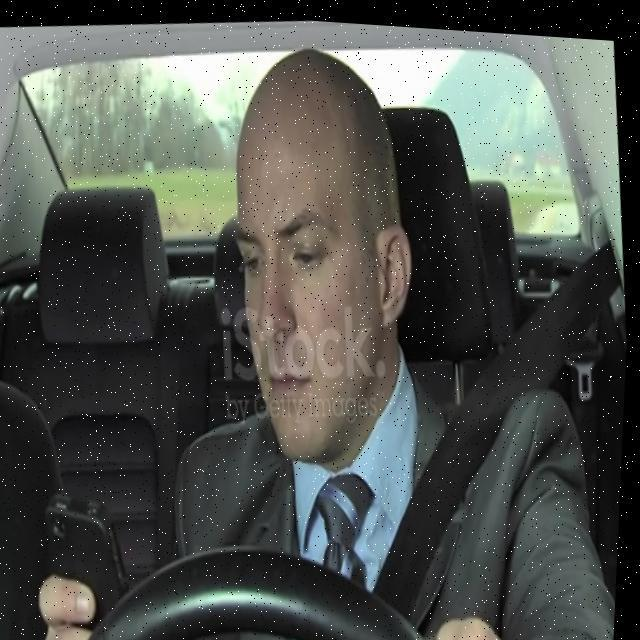PhoneCall: (43, 486, 138, 640)
